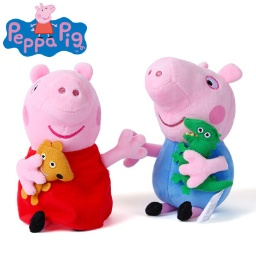Peppa: (16, 63, 127, 232)
